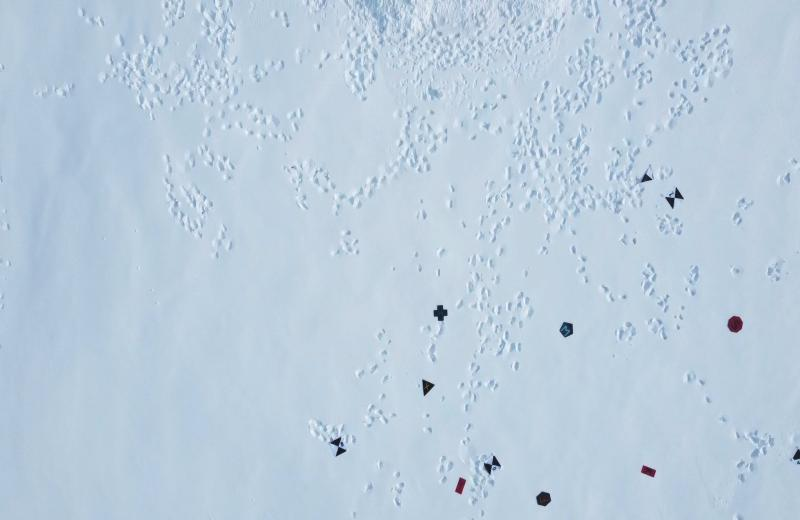Cross: (432, 304, 451, 323)
Hexagon: (534, 490, 552, 509)
Octagon: (726, 313, 744, 335)
Pentagon: (558, 320, 574, 338)
Rectangle: (639, 462, 657, 482), (450, 476, 468, 496)
Triangle: (420, 378, 436, 398)
